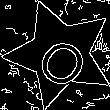O_NE: (27, 21, 93, 87)
